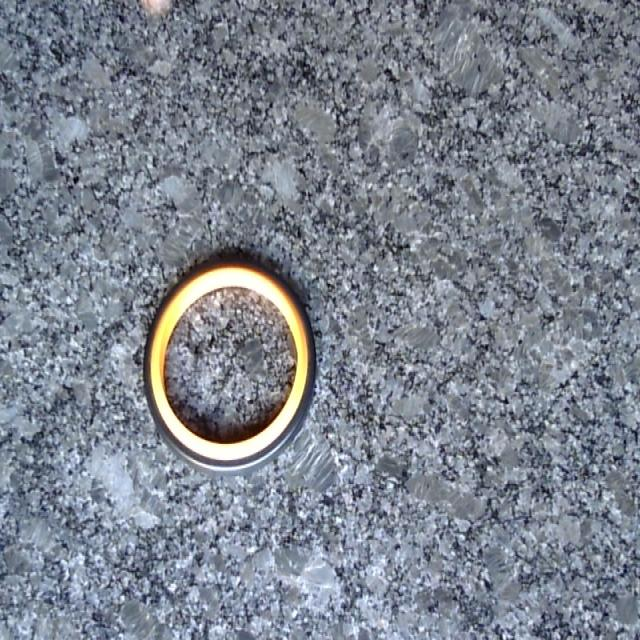orange-2-ring: (145, 258, 315, 473)
